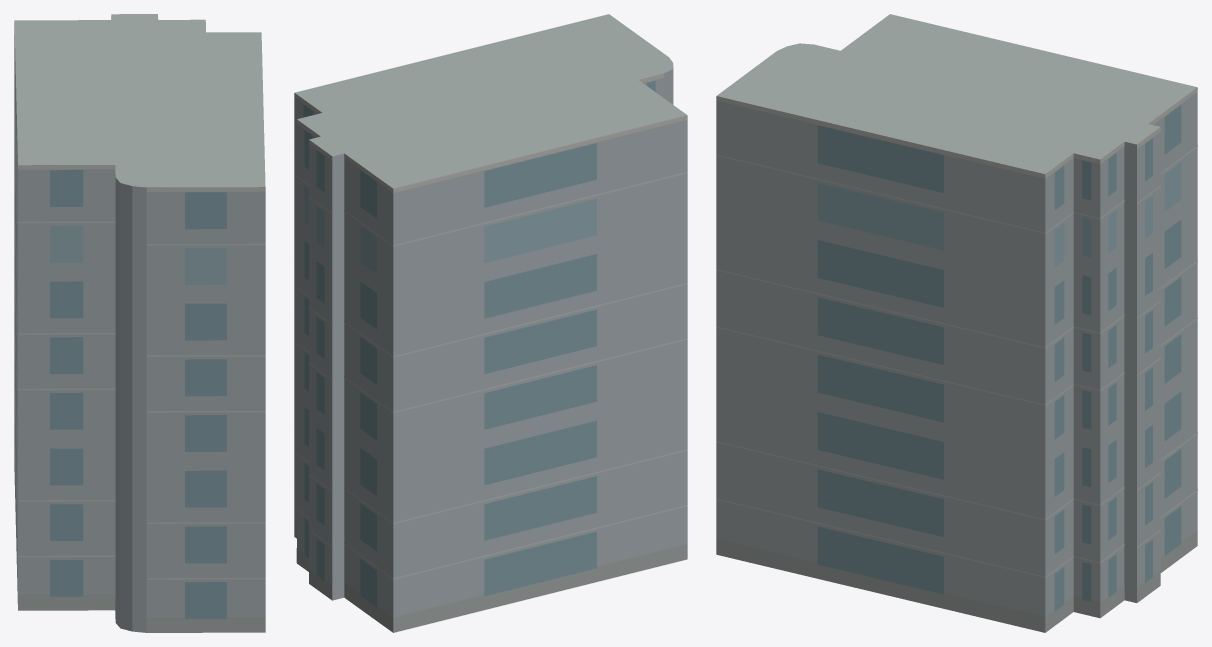
Rendered from survey-upis-32729519.glb.
3 views of the same model, side by side, from view 1: azimuth 30°, elevation 25°; view 2: azimuth 150°, elevation 25°; view 3: azimuth 270°, elevation 25° (orthographic). The views are drawn at different scales.
Parts seen in each view (by area): view 1: survey-upis-32729519.tmp; view 2: survey-upis-32729519.tmp; view 3: survey-upis-32729519.tmp.
Part boxes in pixels (x1,y1,x2,y2): survey-upis-32729519.tmp: [14, 14, 265, 632]; survey-upis-32729519.tmp: [294, 14, 687, 632]; survey-upis-32729519.tmp: [716, 14, 1197, 632].
Bounding box in the file's own units: 18.3 × 24.4 × 23.22.
